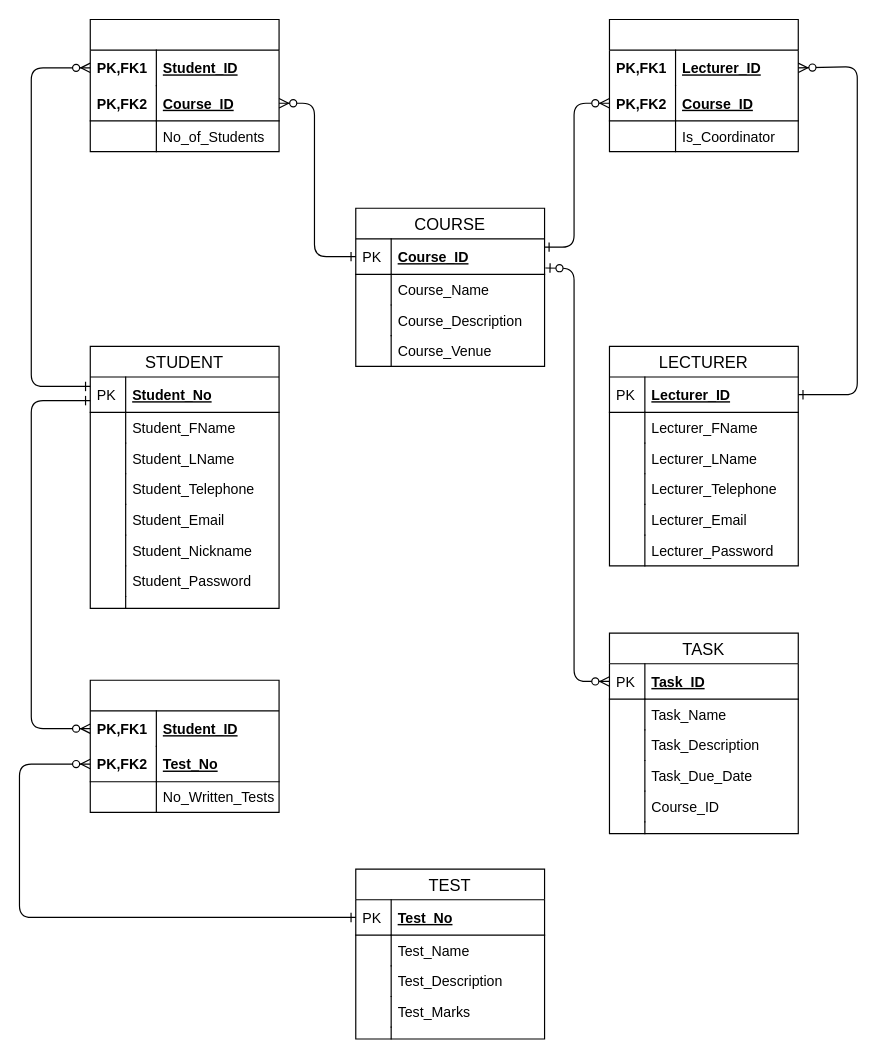
This 877x1058 diagram has some shape labels left out. Each missing label, with the box of its shape:
ENROLLED: (89, 18, 279, 152)
REGISTERED: (608, 18, 798, 152)
WROTE: (89, 679, 279, 812)
